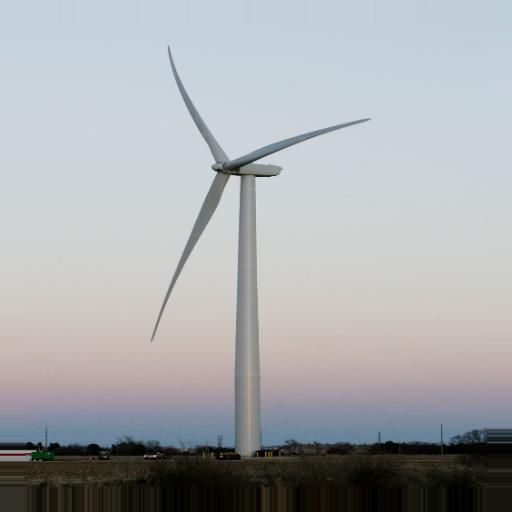wind turbine: (149, 46, 374, 443)
